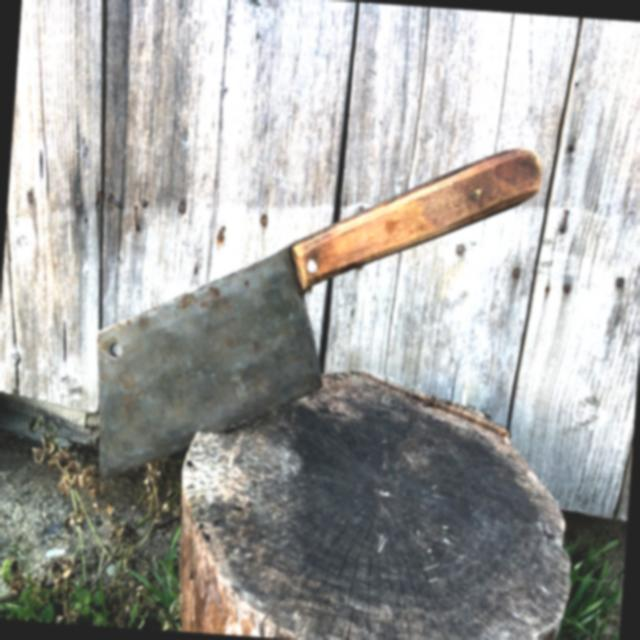cleaver: (93, 117, 542, 510)
